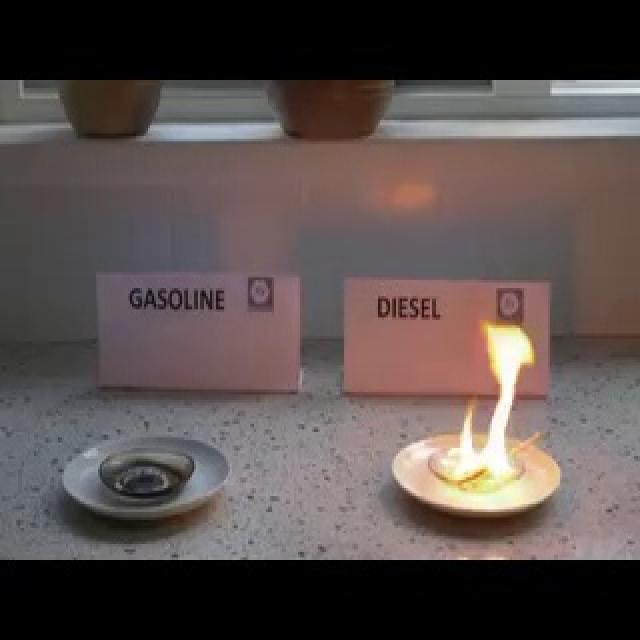fire: (441, 316, 536, 488)
